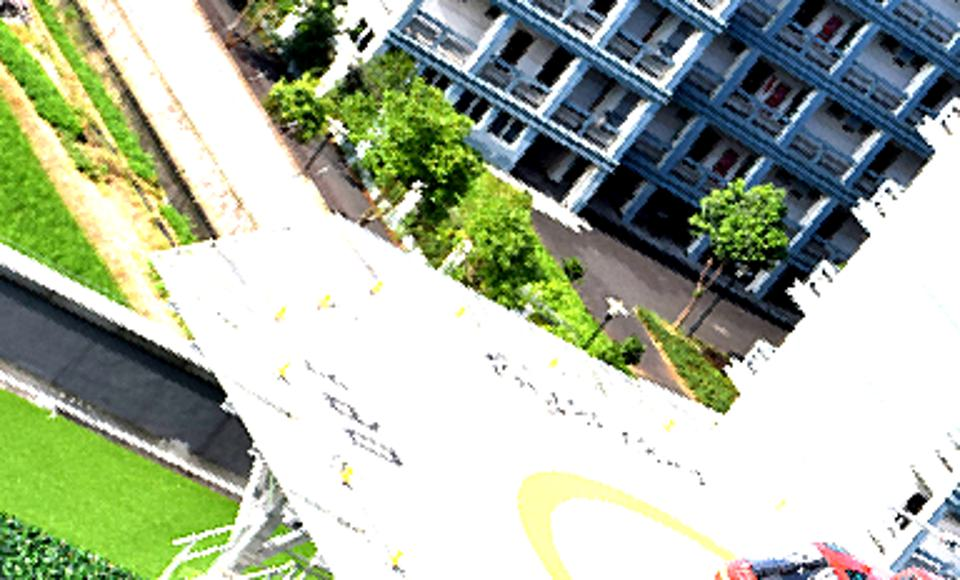Apron: (490, 447, 829, 580)
